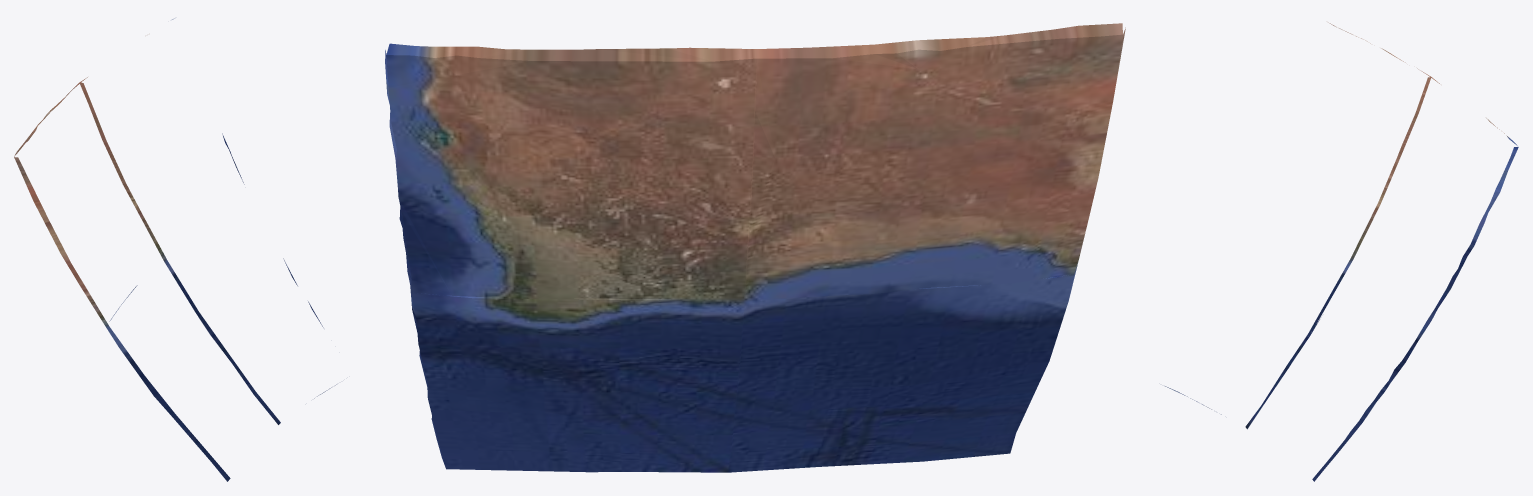
The picture shows the model from 3 angles, left to right: view 1: azimuth 30°, elevation 25°; view 2: azimuth 150°, elevation 25°; view 3: azimuth 270°, elevation 25°; orthographic projection. The views are drawn at different scales.
Size of the model in its own units: 2468078 by 2102740 by 2283618.
Materials: 1 (1 with a texture image).
